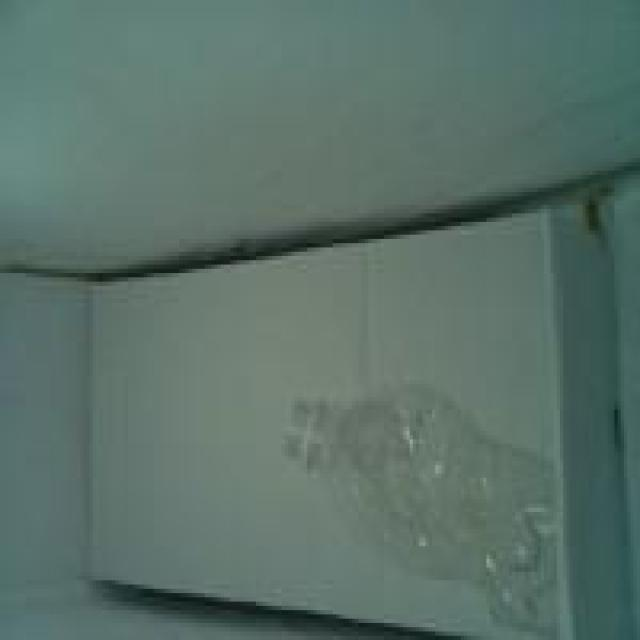bottle: (280, 377, 570, 640)
